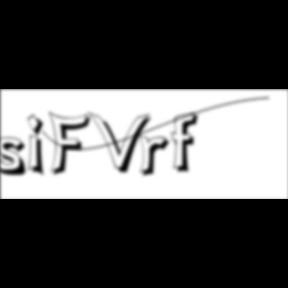F: (49, 110, 97, 178)
V: (88, 110, 156, 176)
f: (172, 111, 204, 175)
i: (28, 112, 52, 180)
r: (138, 134, 176, 180)
s: (0, 137, 34, 179)
